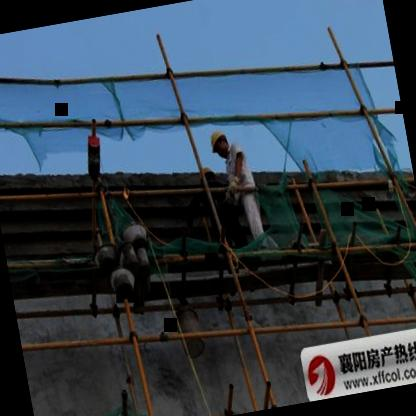helmet: (207, 127, 231, 158), (195, 160, 217, 188)
